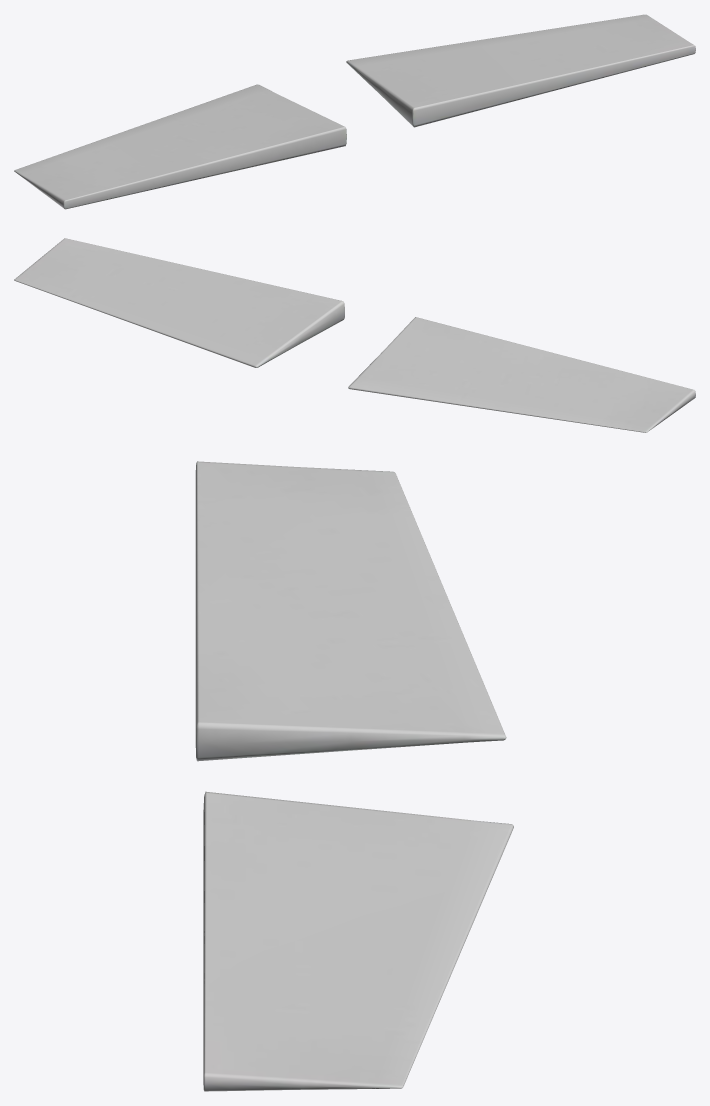
File: CessnaElevator.obj
The picture shows the model from 3 angles, top to bottom: view 1: azimuth 30°, elevation 25°; view 2: azimuth 150°, elevation 25°; view 3: azimuth 270°, elevation 25°; orthographic projection. The views are drawn at different scales.
Parts seen in each view (by area): view 1: A23DOBJ_001_Mesh.011, A23DOBJ_001_Mesh.010; view 2: A23DOBJ_001_Mesh.010, A23DOBJ_001_Mesh.011; view 3: A23DOBJ_001_Mesh.011, A23DOBJ_001_Mesh.010.
Part boxes in pixels (x1,y1,x2,y2): A23DOBJ_001_Mesh.011: [14, 84, 346, 209]; A23DOBJ_001_Mesh.010: [346, 14, 695, 127]; A23DOBJ_001_Mesh.010: [14, 238, 344, 367]; A23DOBJ_001_Mesh.011: [348, 317, 695, 432]; A23DOBJ_001_Mesh.011: [195, 461, 506, 761]; A23DOBJ_001_Mesh.010: [203, 791, 513, 1091].
Bounding box in the file's own units: 2.41 × 0.0692 × 0.5273.
Materials: 1 (1 with a texture image).
